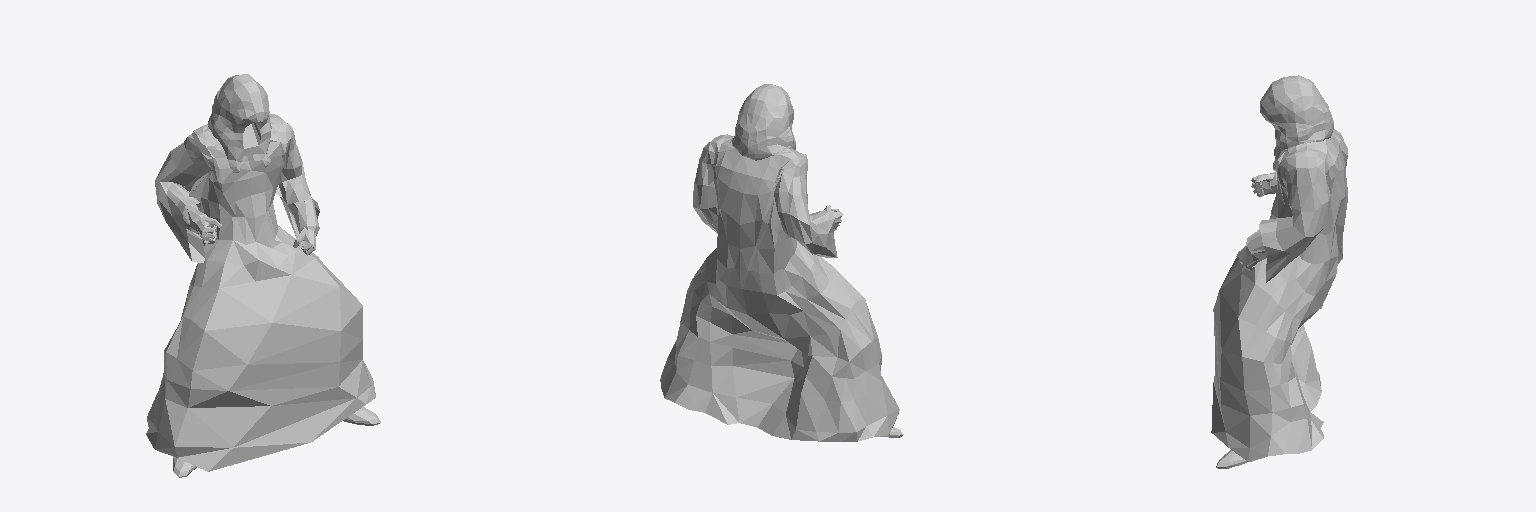
The model's file is Fellbeast_Animate_Flying_19.obj.
3 renders of one model, left to right at view 1: azimuth 30°, elevation 25°; view 2: azimuth 150°, elevation 25°; view 3: azimuth 270°, elevation 25°, orthographic.
Parts seen in each view (by area): view 1: dm_nazgulrobe_ride_241108; view 2: dm_nazgulrobe_ride_241108; view 3: dm_nazgulrobe_ride_241108.
Boxes of the visible parts, box(x1,y1,x2,y2) form: dm_nazgulrobe_ride_241108: box(146, 74, 380, 477); dm_nazgulrobe_ride_241108: box(660, 84, 903, 441); dm_nazgulrobe_ride_241108: box(1211, 75, 1347, 468).
Bounding box in the file's own units: 0.4416 × 0.6685 × 0.2358.